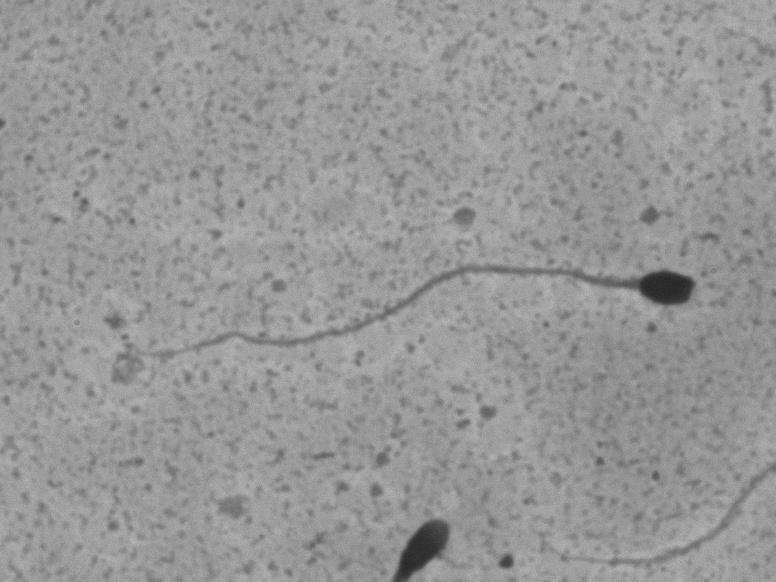Abnormal: (120, 238, 700, 376)
